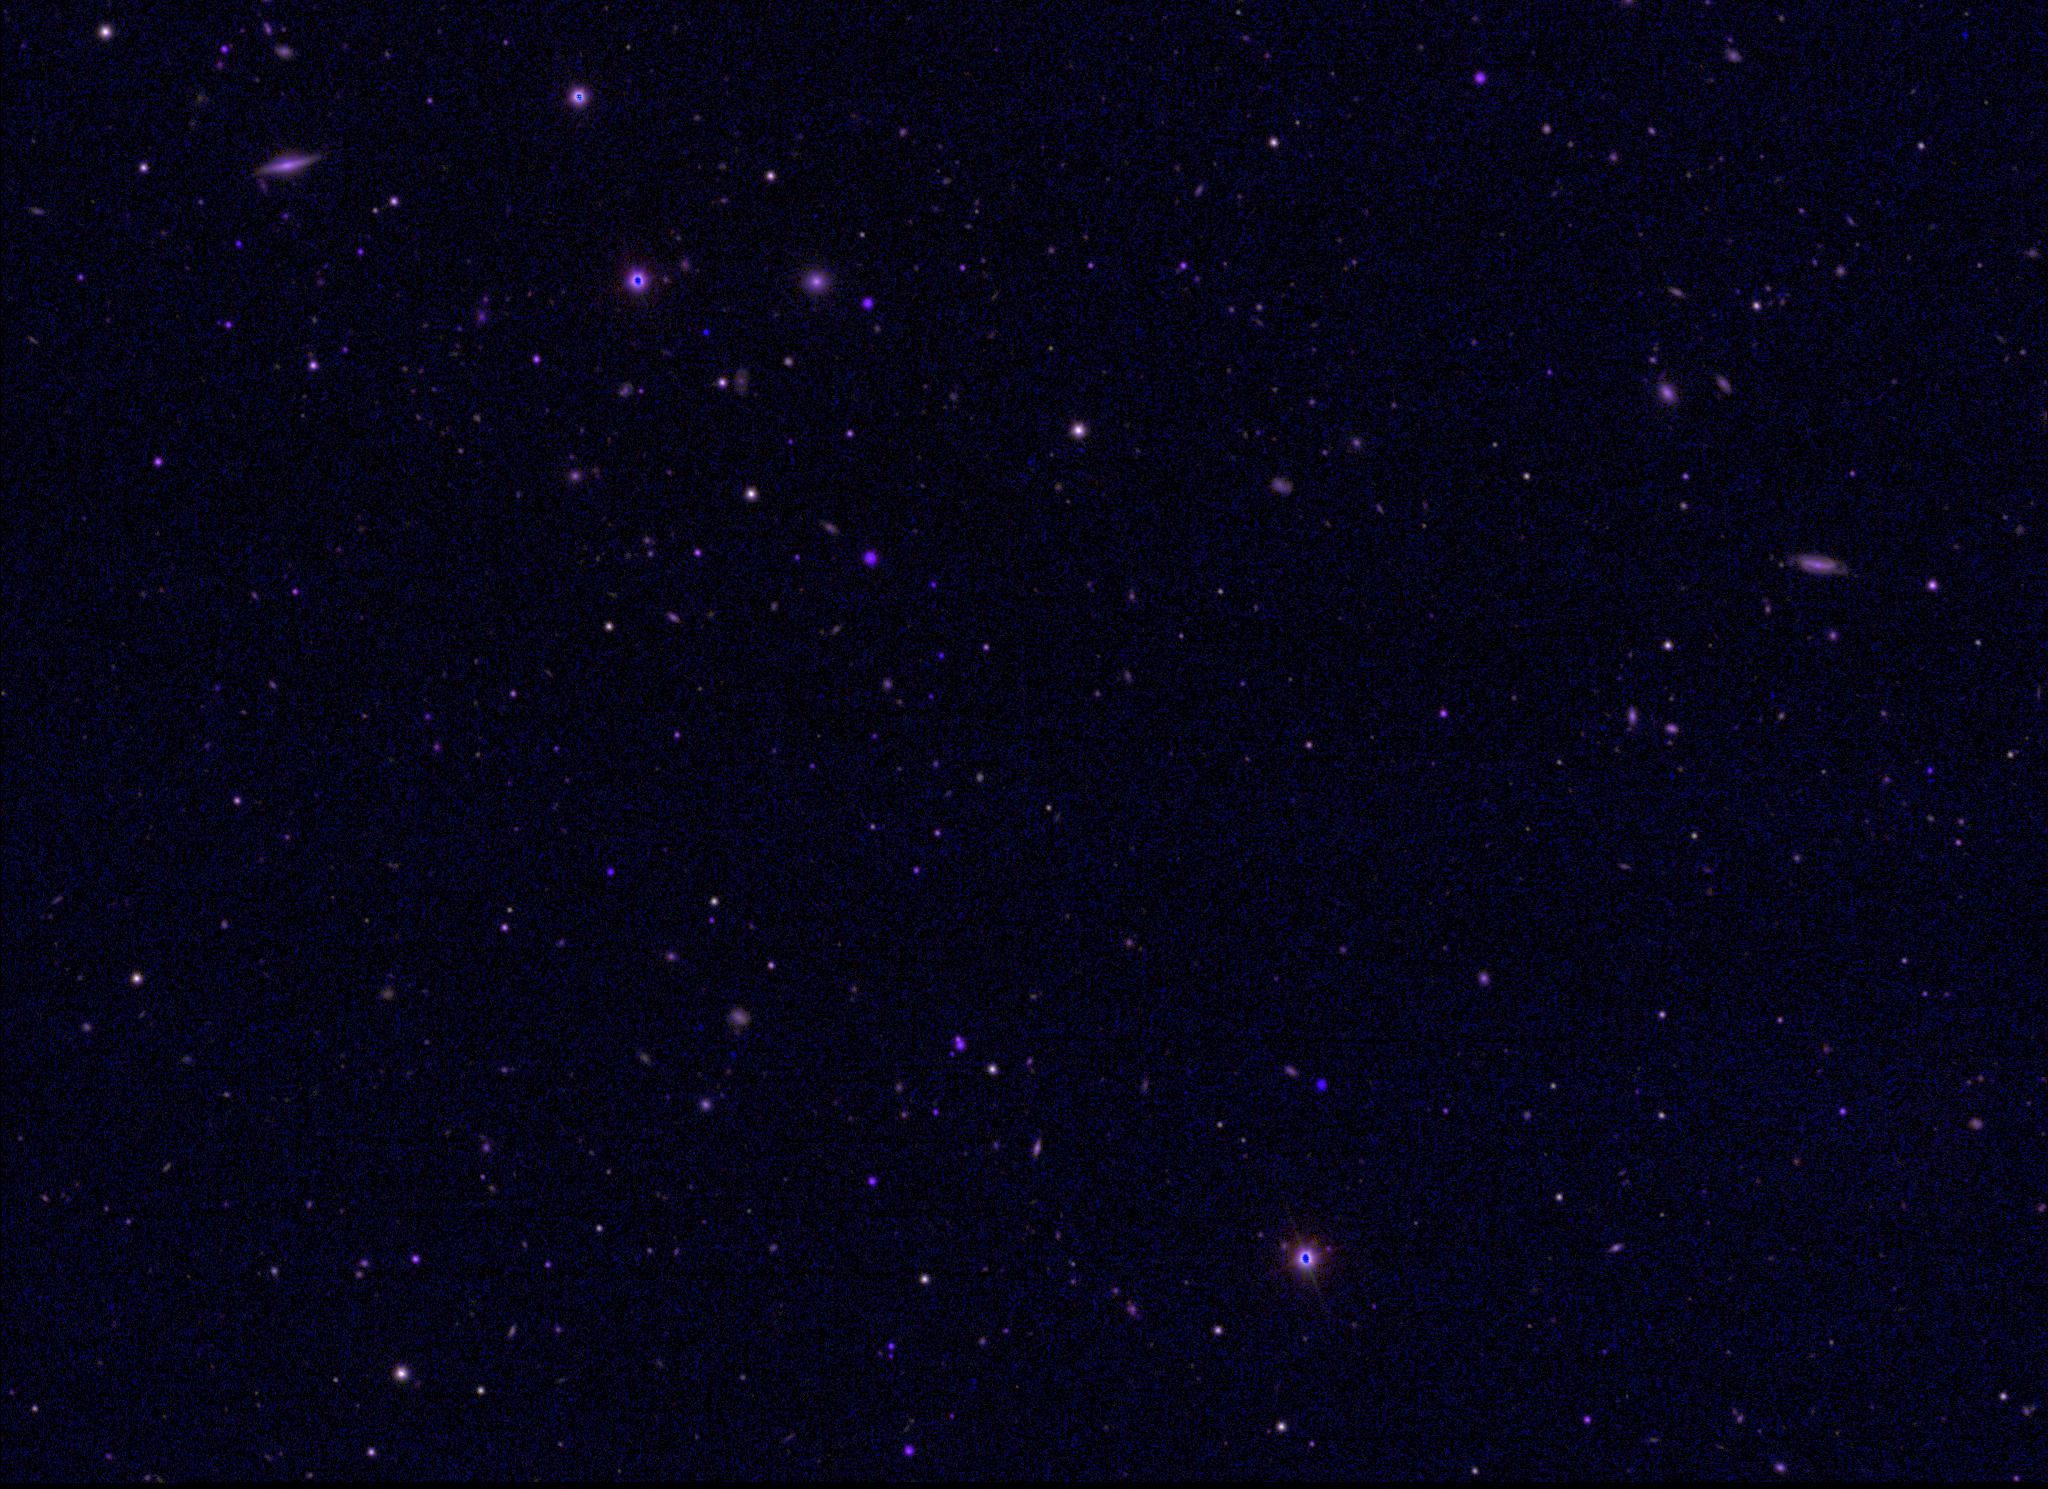L: (698, 323, 712, 337)
